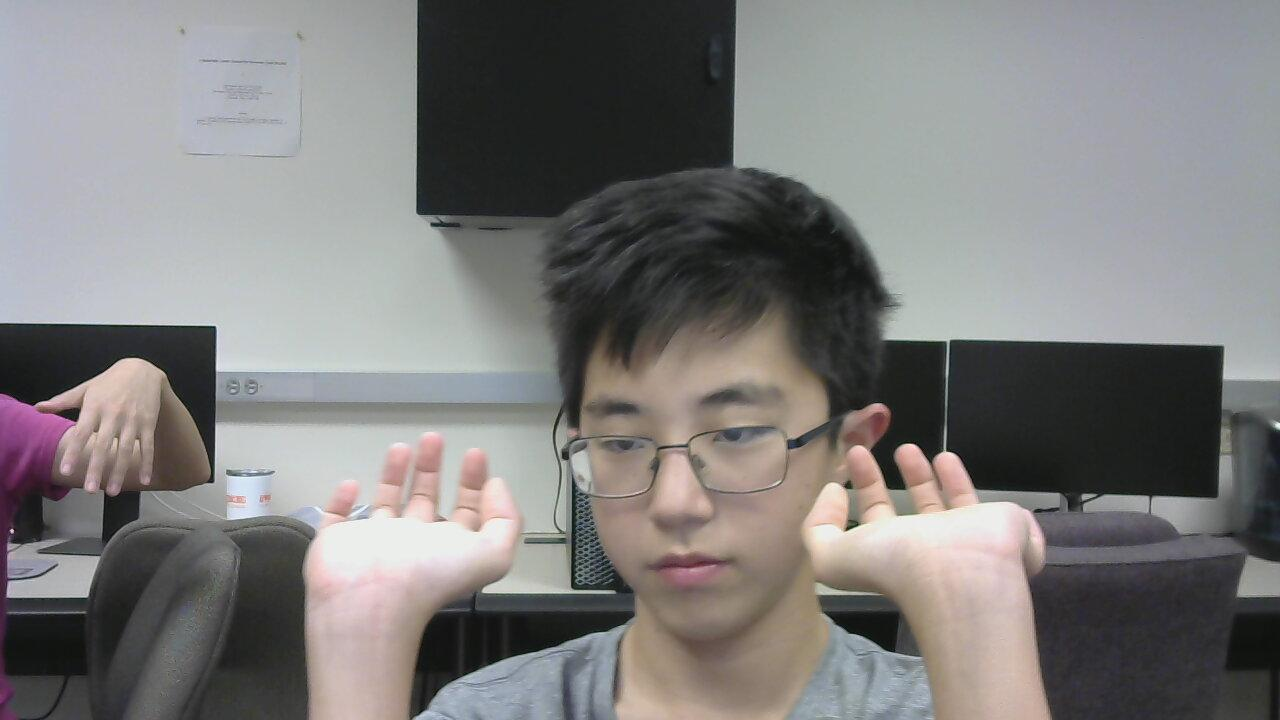hands: (290, 424, 536, 603), (793, 428, 1066, 585), (27, 349, 188, 503)
